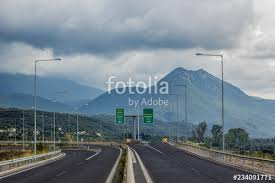strada: (140, 144, 253, 183), (32, 148, 112, 183)
